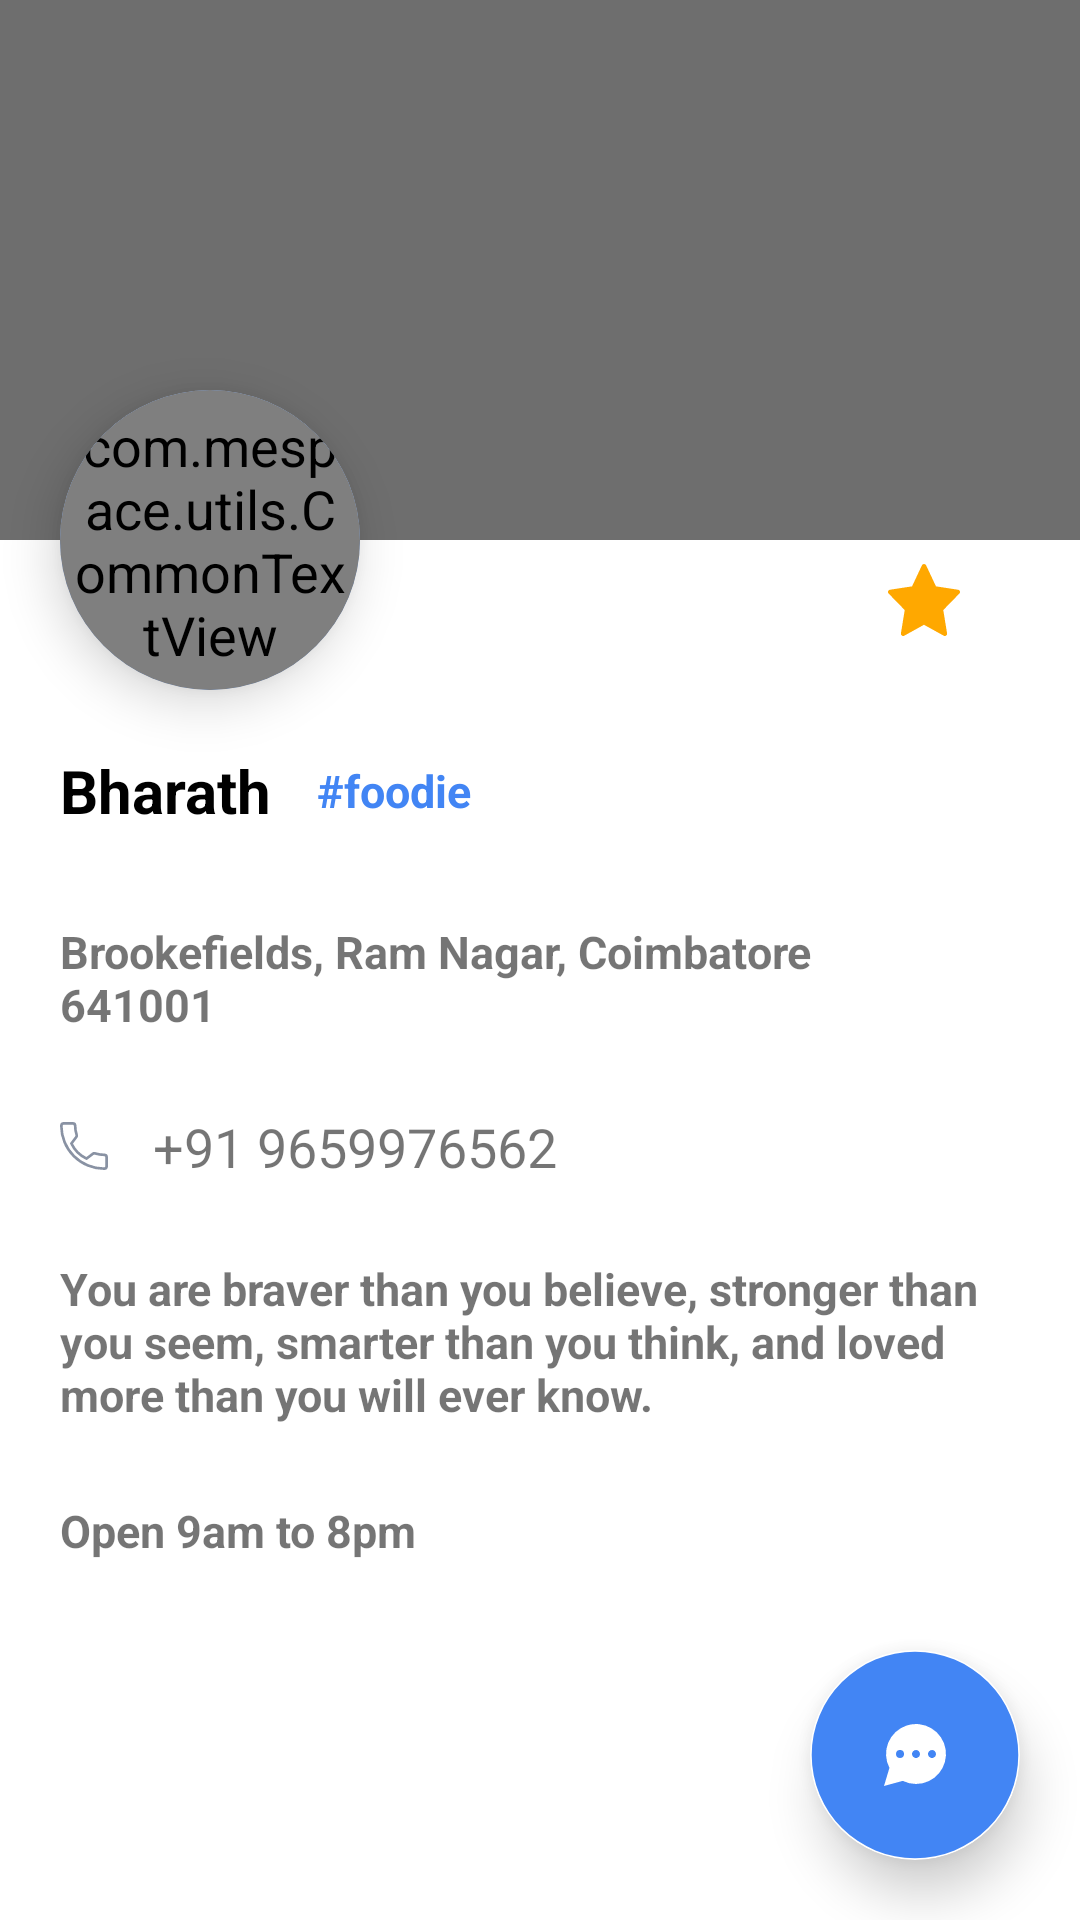

Where icons sit on this 1080*1920 app screen, as [left=x1, top=y1, right=x2, bottom=y2]:
business chat: [left=811, top=1651, right=1020, bottom=1860]
